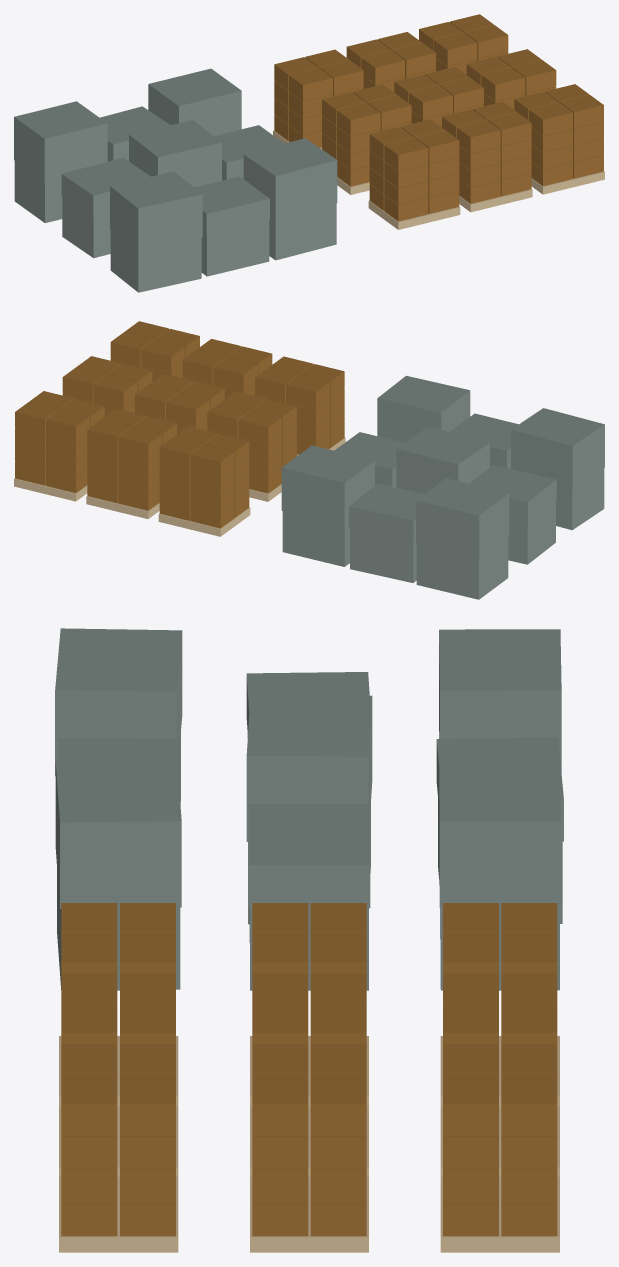
Rendered from SM_AcopioViveres_v2_Vacio_LOD0.fbx.
3 renders of one model, top to bottom at view 1: azimuth 30°, elevation 25°; view 2: azimuth 150°, elevation 25°; view 3: azimuth 270°, elevation 25°, orthographic. The views are drawn at different scales.
Visible parts, largest first — view 1: SM_acopio_viveres_v2_LOD0; view 2: SM_acopio_viveres_v2_LOD0; view 3: SM_acopio_viveres_v2_LOD0.
Boxes of the visible parts, x1=… form: SM_acopio_viveres_v2_LOD0: x1=14, y1=14, x2=604, y2=292; SM_acopio_viveres_v2_LOD0: x1=14, y1=321, x2=604, y2=599; SM_acopio_viveres_v2_LOD0: x1=55, y1=628, x2=563, y2=1252.
Size of the model in its own units: 9.03 by 1.56 by 4.27.
